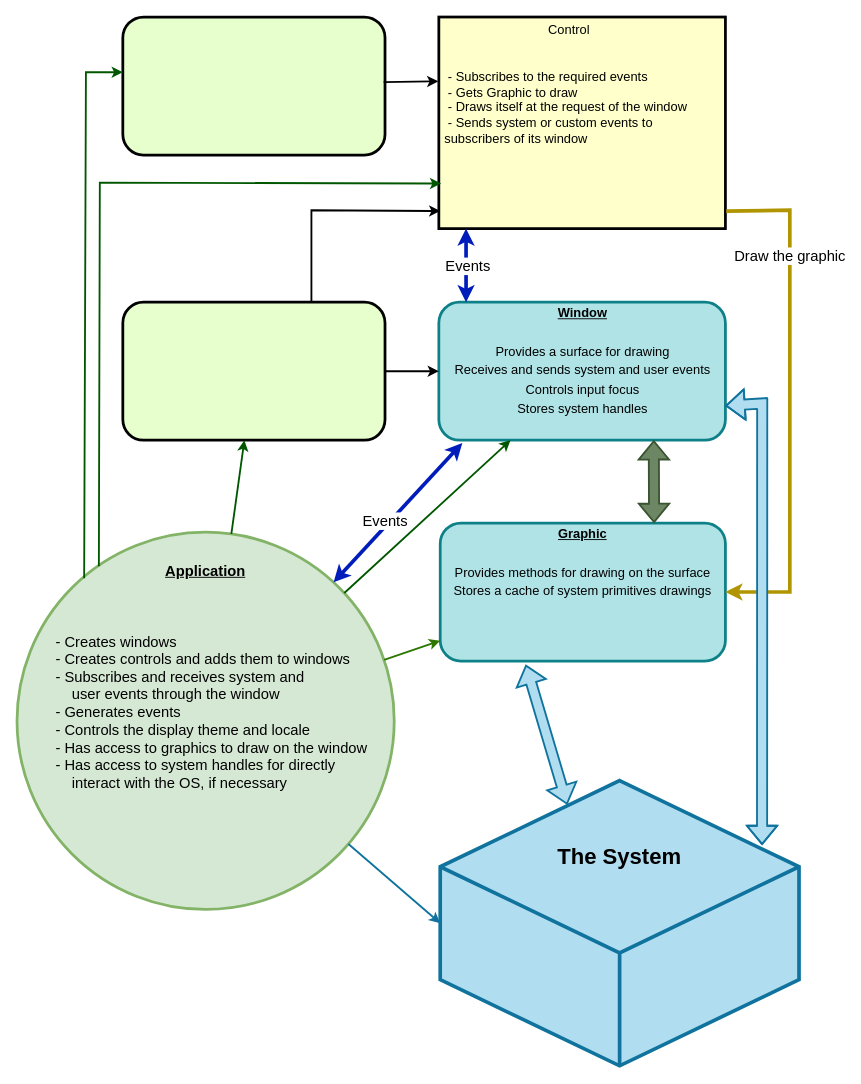
Some shapes in this 861 by 1084 pixel diagram are drawn without their labels. Here are the shapes that lost their labels. From the top down, the centre of each, then its label:
At point (253, 85): "Locale Provides text constants for a given user language".
At point (253, 370): "Theme Provides display constants for a given visual theme".
